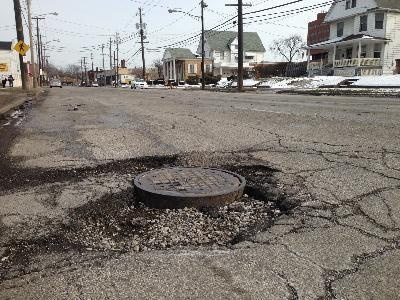pothole: (58, 163, 296, 257), (103, 151, 181, 176)
